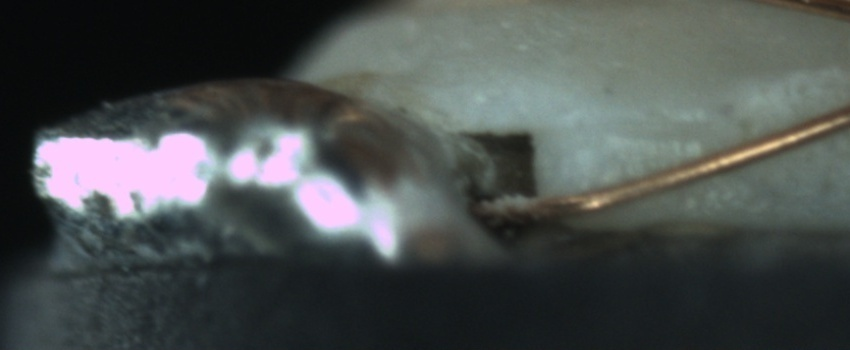DL: (576, 96, 720, 165)
